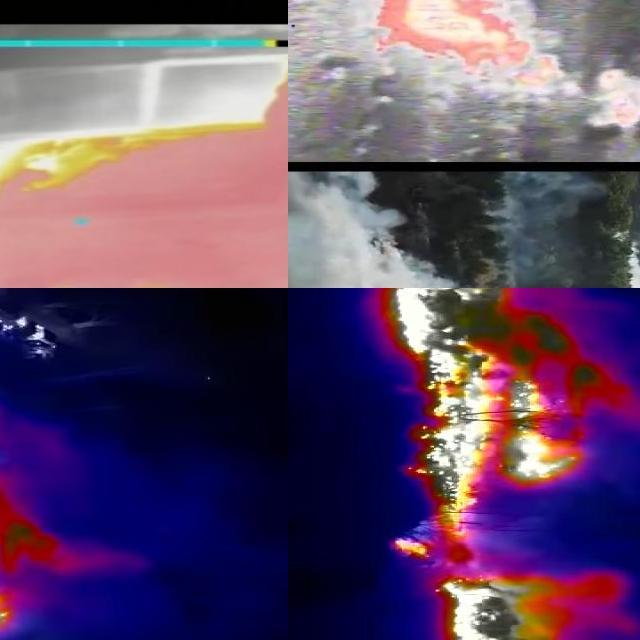fire: (1, 73, 289, 289), (388, 289, 609, 507), (370, 1, 640, 129), (440, 576, 613, 640), (384, 507, 500, 559)
